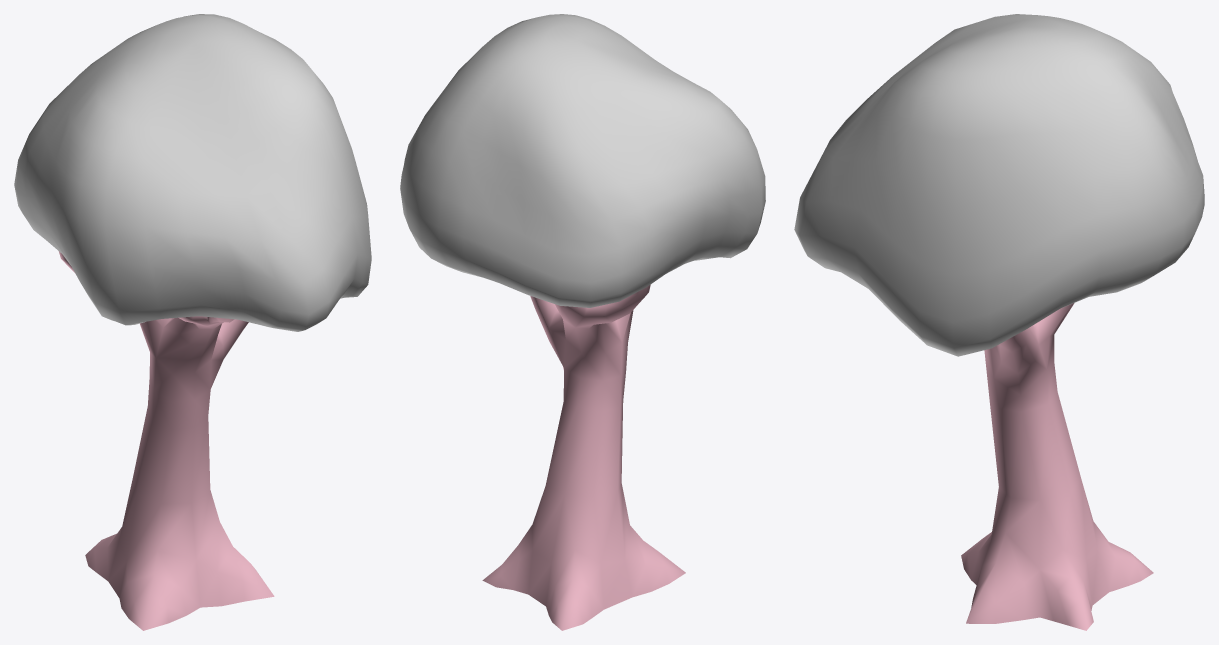
File: Tree_04.fbx
The picture shows the model from 3 angles, left to right: view 1: azimuth 30°, elevation 25°; view 2: azimuth 150°, elevation 25°; view 3: azimuth 270°, elevation 25°; orthographic projection. The views are drawn at different scales.
Parts seen in each view (by area): view 1: Tree_04L, Tree_04; view 2: Tree_04L, Tree_04; view 3: Tree_04L, Tree_04.
Part boxes in pixels (x1=…): Tree_04L: x1=14, y1=14, x2=371, y2=331; Tree_04: x1=58, y1=251, x2=274, y2=630; Tree_04L: x1=400, y1=14, x2=765, y2=307; Tree_04: x1=482, y1=285, x2=685, y2=630; Tree_04L: x1=794, y1=14, x2=1204, y2=356; Tree_04: x1=961, y1=303, x2=1153, y2=630.
Size of the model in its own units: 311 by 536 by 347.
